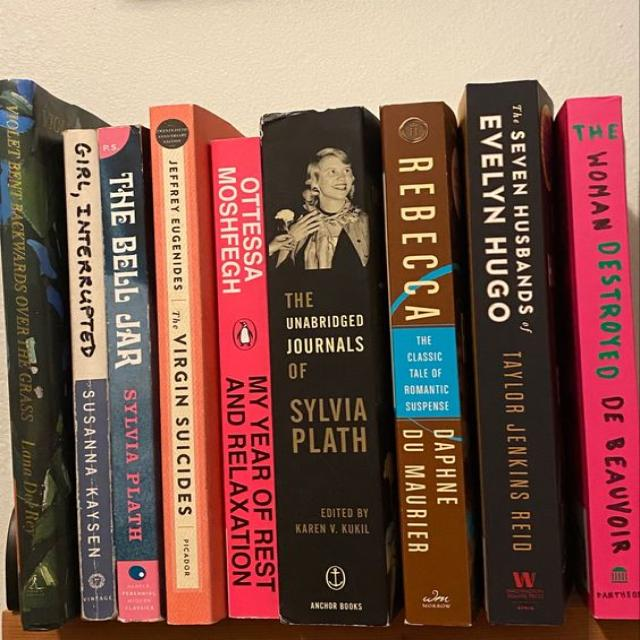book: (261, 108, 388, 627), (464, 81, 565, 625), (383, 100, 472, 626), (568, 95, 640, 619), (209, 136, 279, 619), (0, 79, 60, 628), (150, 103, 213, 622), (96, 125, 161, 622), (62, 129, 118, 619)
